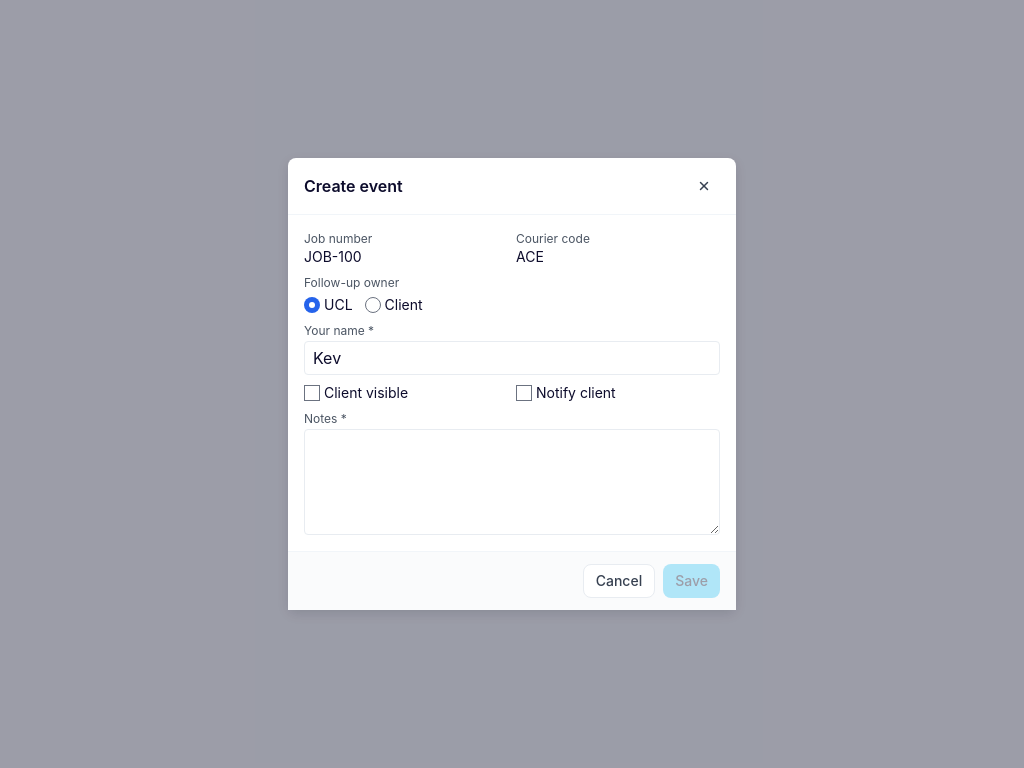
Test: CreateEventDialog › surfaces server error on 500
In the text box labelled "Notes *": (512, 482) [304,429,720,535], type "note"
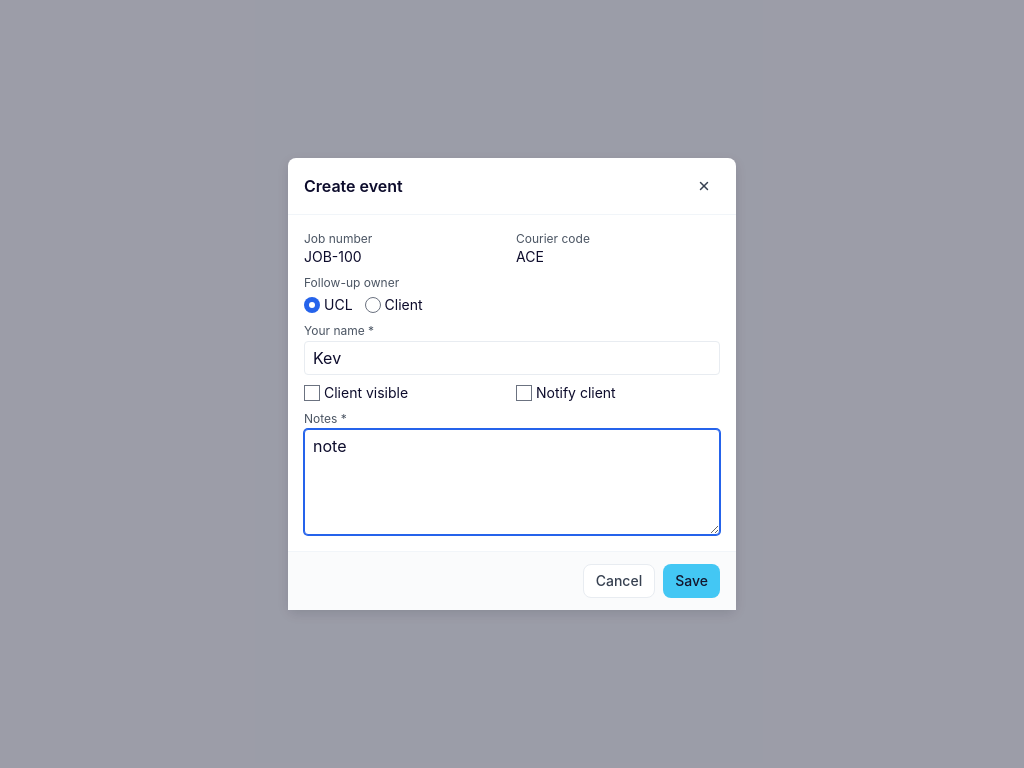
Click the button "Save": (692, 581) [663,564,720,598]
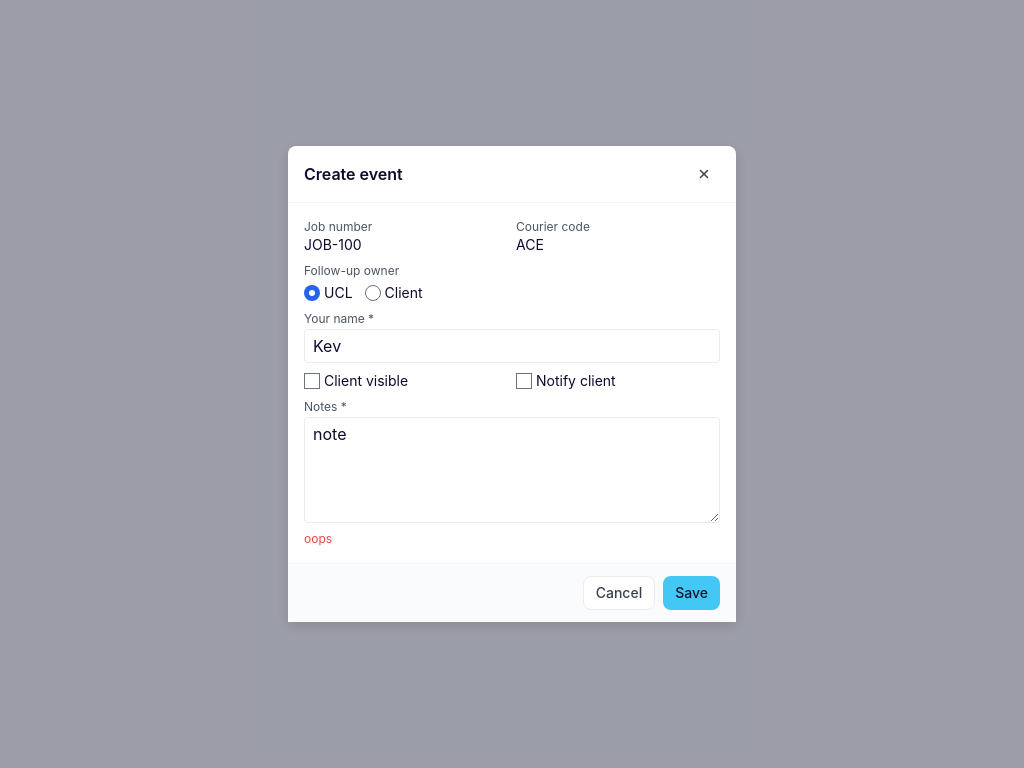
Expected: the text "oops" is shown, [304,531,332,546]
